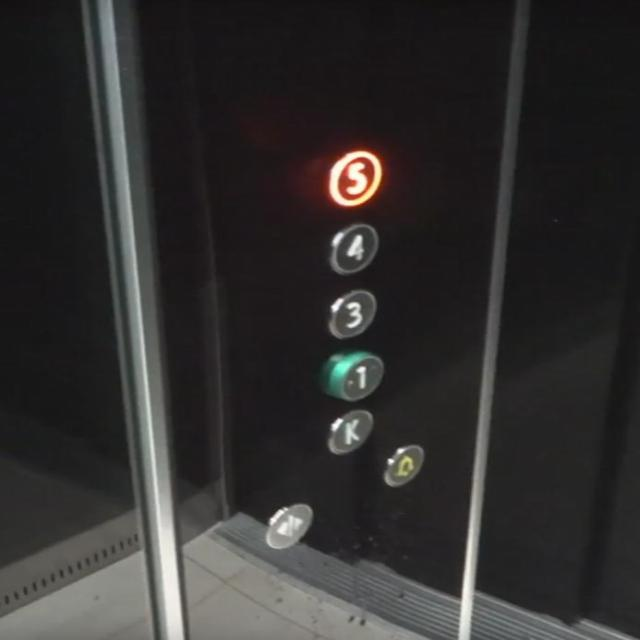1: (314, 348, 385, 403)
3: (323, 286, 381, 341)
4: (323, 222, 384, 278)
5: (324, 148, 382, 208)
K: (323, 406, 377, 457)
alarm: (380, 441, 428, 491)
open: (262, 498, 315, 552)
